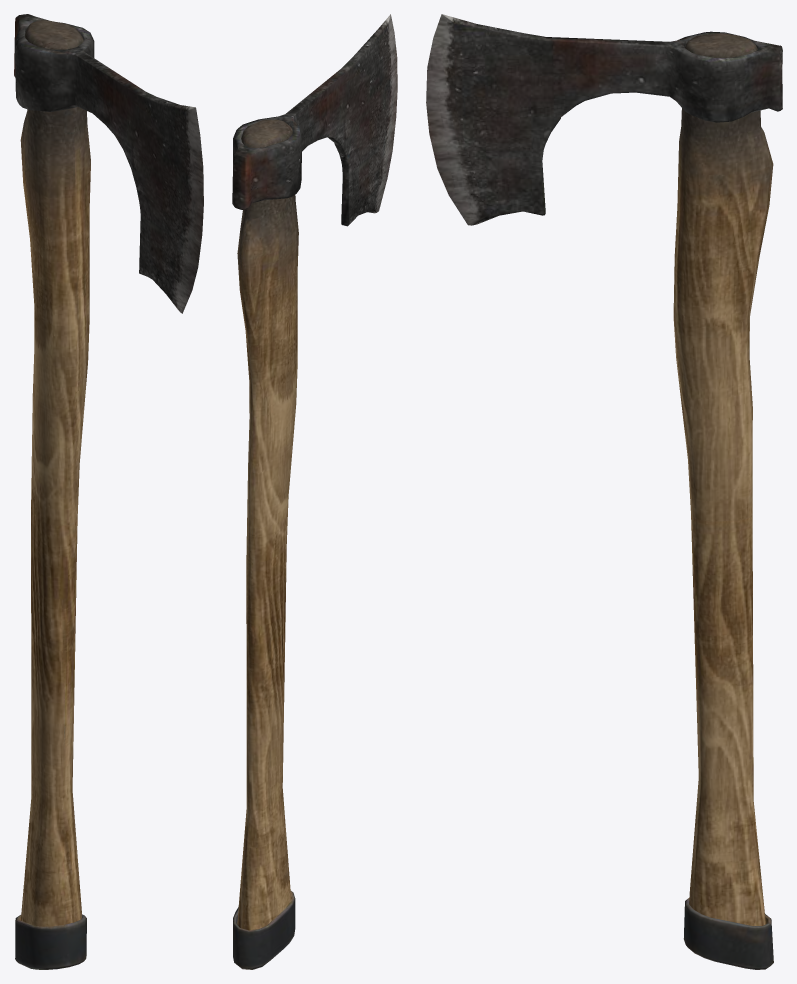
The model's file is wooden_axe.glb.
3 views of the same model, side by side, from view 1: azimuth 30°, elevation 25°; view 2: azimuth 150°, elevation 25°; view 3: azimuth 270°, elevation 25° (orthographic). The views are drawn at different scales.
Parts seen in each view (by area): view 1: wooden_axe; view 2: wooden_axe; view 3: wooden_axe.
Boxes of the visible parts, bbox=[...] form: wooden_axe: bbox=[14, 14, 203, 969]; wooden_axe: bbox=[232, 14, 397, 969]; wooden_axe: bbox=[426, 14, 782, 969].
Bounding box in the file's own units: 0.0472 × 0.6303 × 0.2142.
Materials: 1 (1 with a texture image).
